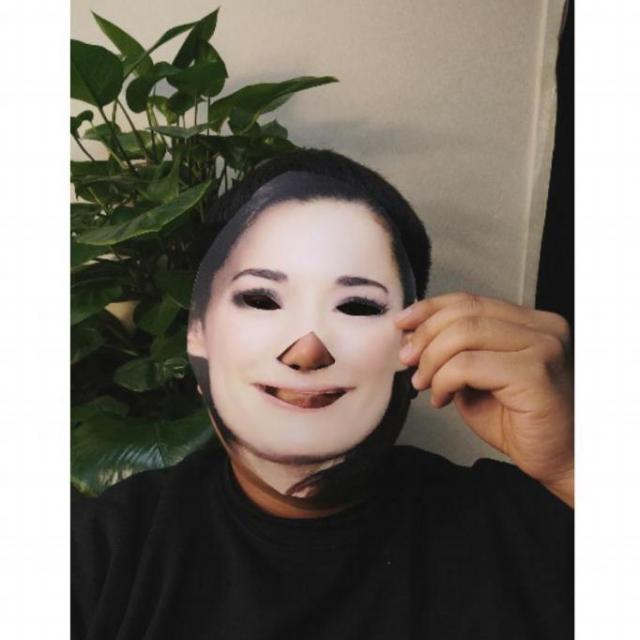mask: (185, 169, 431, 496)
